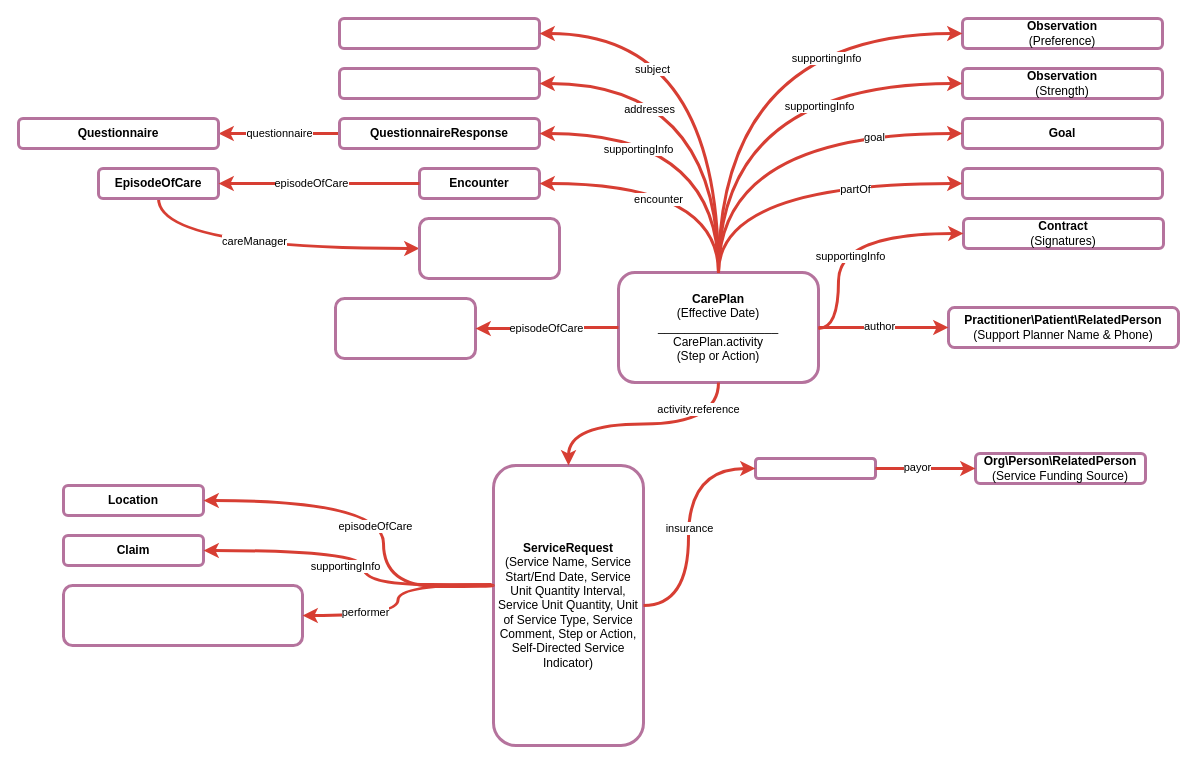
The diagram is 1197 pixels wide and 764 high, and some of its shapes have lost their labels. Here are the shapes that lost their labels. From the top down, the centre of each, then its label:
point 439,33: Patient
point 439,83: Condition
point 1062,183: CarePlan (Emergency Backup Plan)
point 489,248: Practitioner (Plan Monitor Name and Phone)
point 405,328: RiskAssessment (Identified Risk, Risk Mgmt Plan)
point 815,468: Coverage
point 183,615: Org/HealthcareService\RelatedPerson (Identified Risk, Risk Mgmt Plan)
